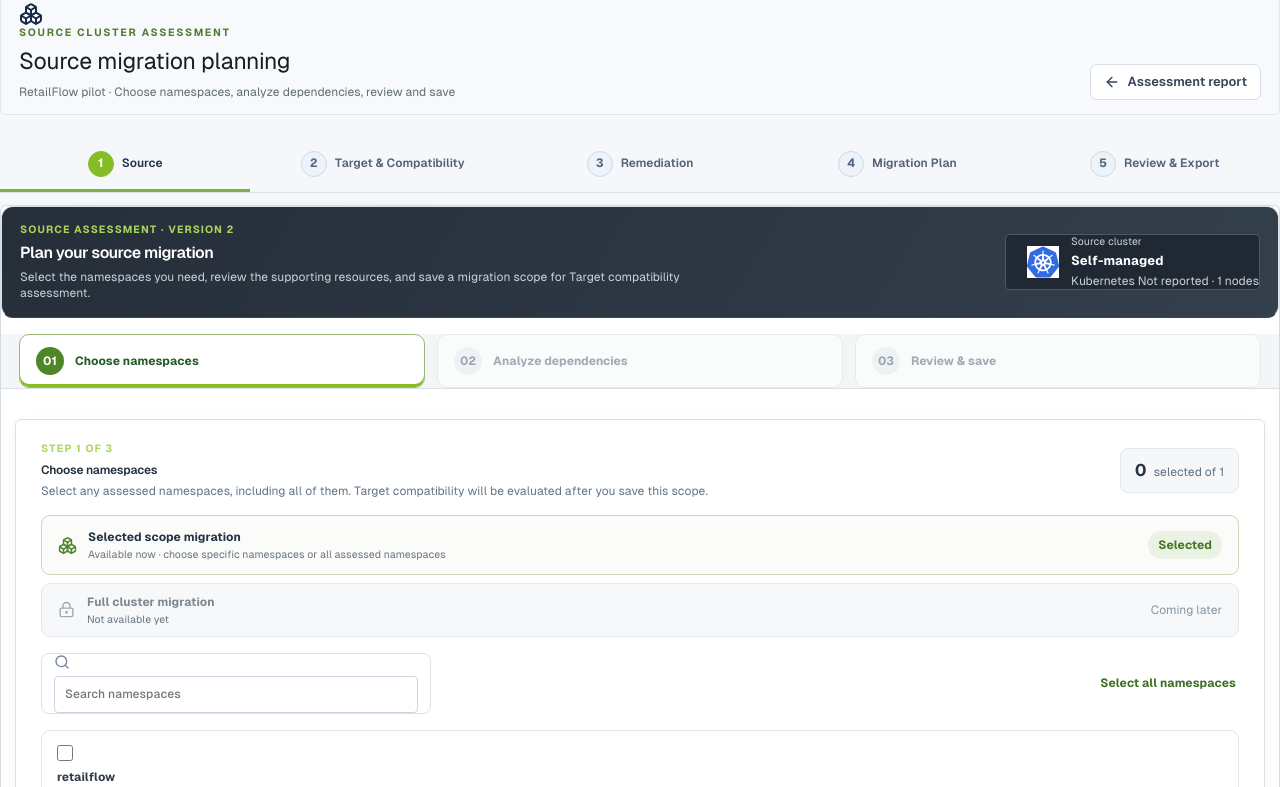
it: migration planning › analyzes explicit namespace scope through the guided Source flow
Click the button "Select all namespaces". click: point(1168, 683)
box: 1097,669 -> 1239,698
(page scrolled)
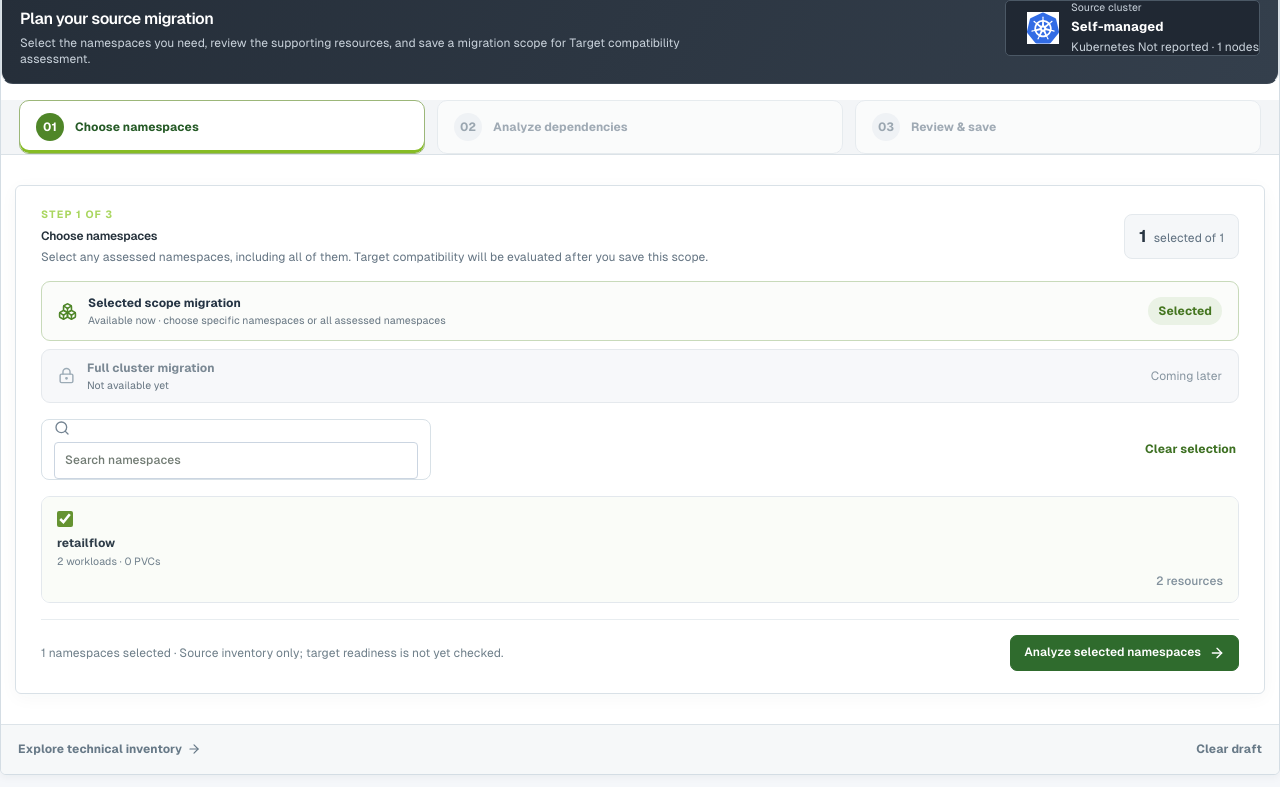
Check: the button "Analyze selected namespaces" is enabled
Click the button "Analyze selected namespaces". click: point(1125, 653)
box: 1010,635 -> 1239,671
(page scrolled)
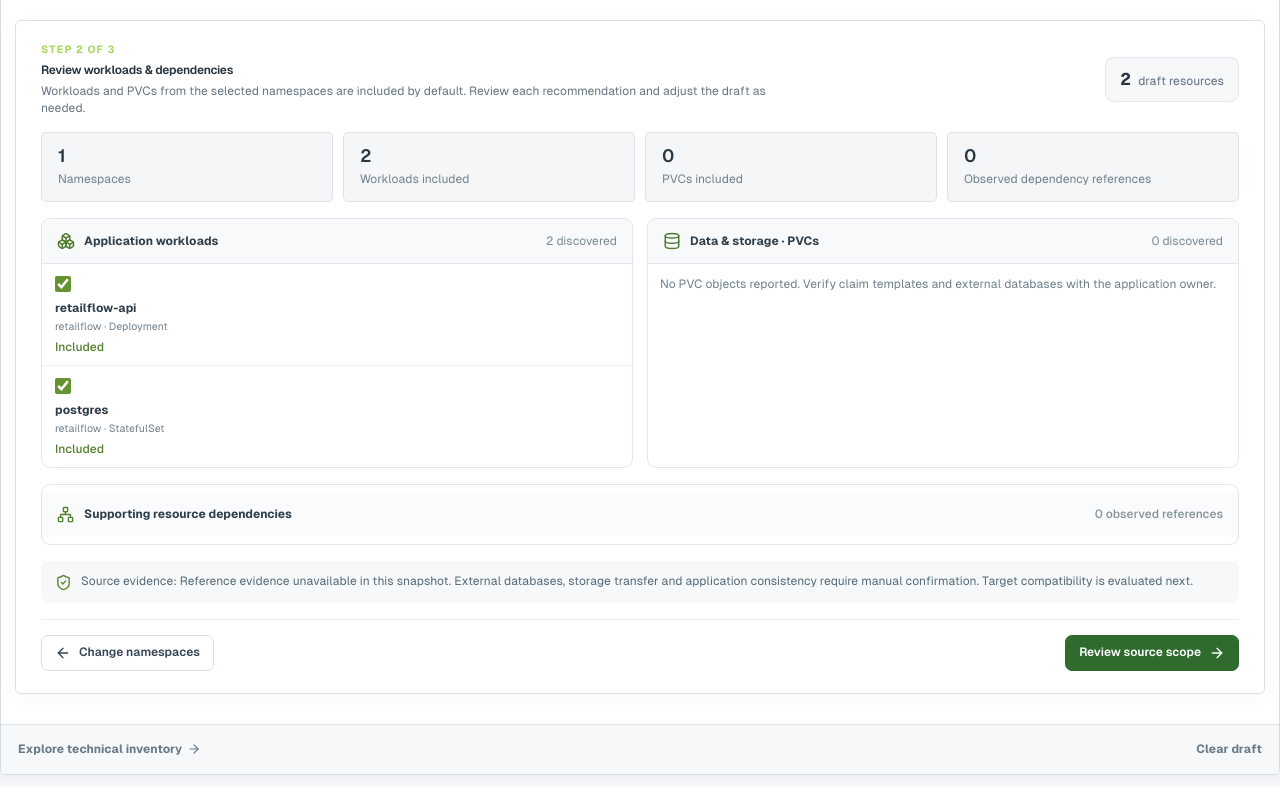
Check: the heading "Review workloads & dependencies" is shown, box 41,63 -> 233,77
Check: the text "retailflow-api" is shown, box 55,301 -> 136,315
Check: the text "postgres" is shown, box 55,403 -> 108,417
Click the button "Review source scope". click: point(1152, 653)
box: 1065,635 -> 1239,671
(page scrolled)
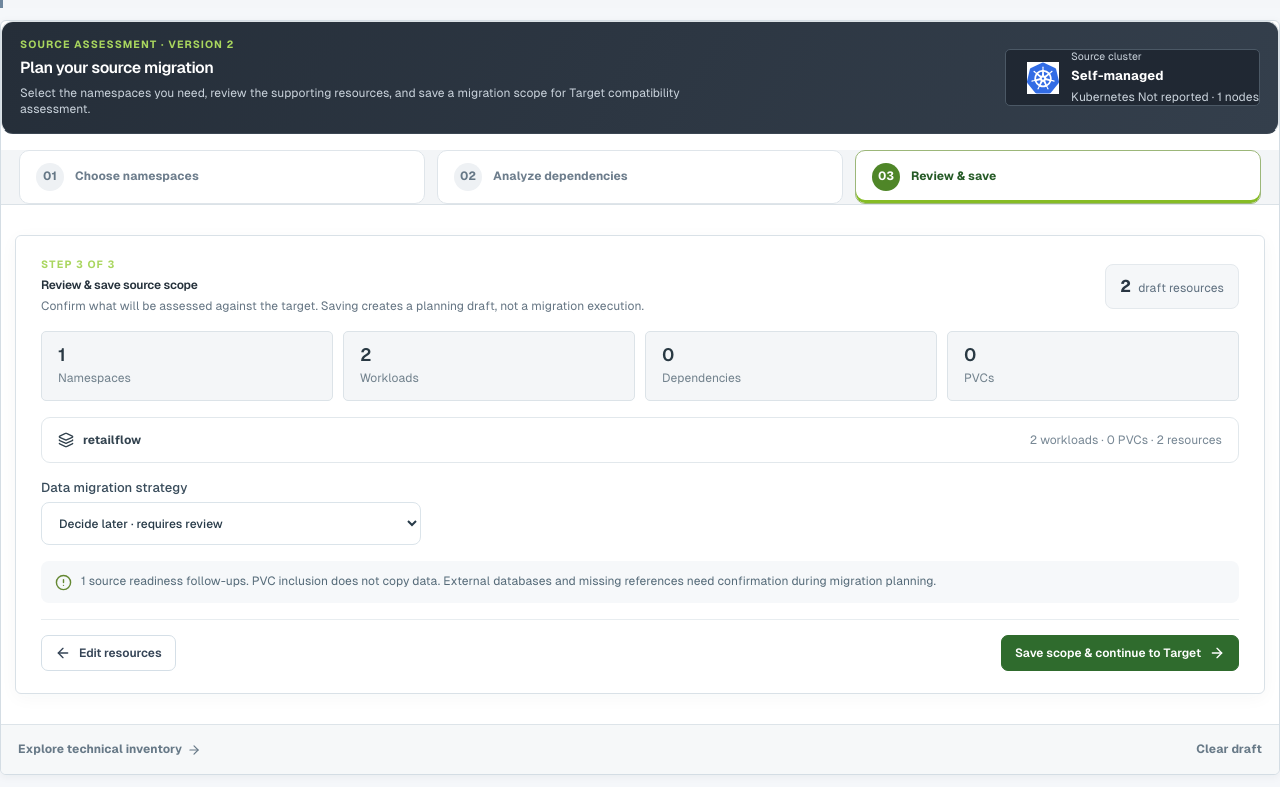
Check: the heading "Review & save source scope" is shown, box 41,278 -> 198,292
